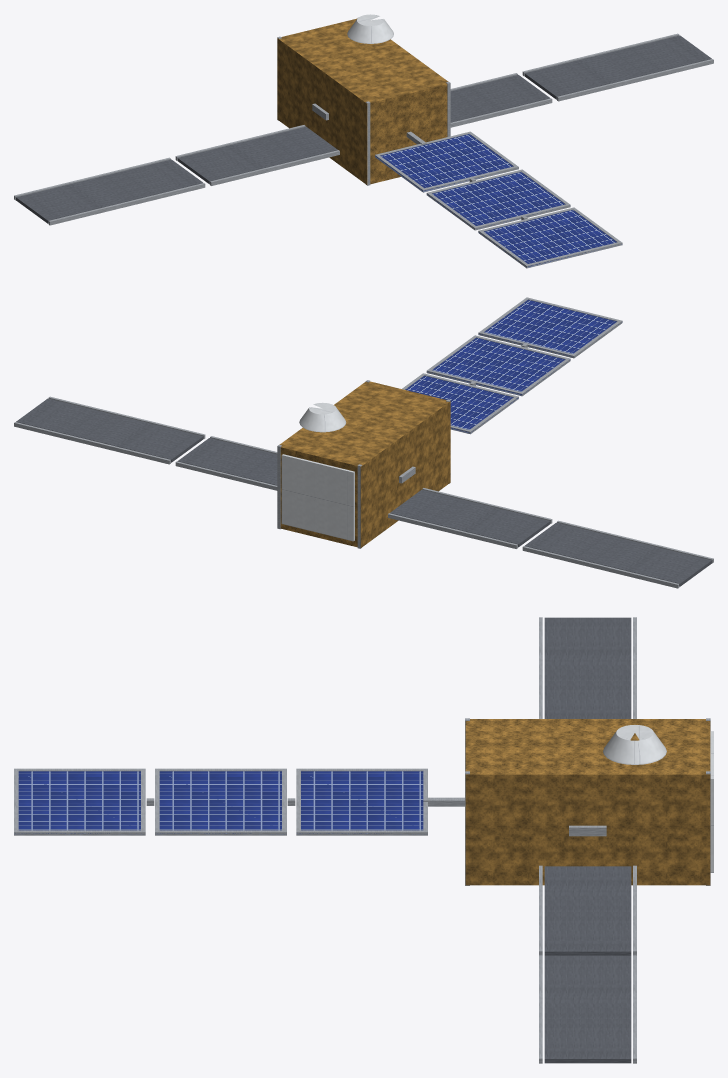
Rendered from sar.glb.
3 views of the same model, one above another, from view 1: azimuth 30°, elevation 25°; view 2: azimuth 150°, elevation 25°; view 3: azimuth 270°, elevation 25° (orthographic). The views are drawn at different scales.
Size of the model in its own units: 11.1 by 1.83 by 7.44.
Materials: 5 (5 with a texture image).
